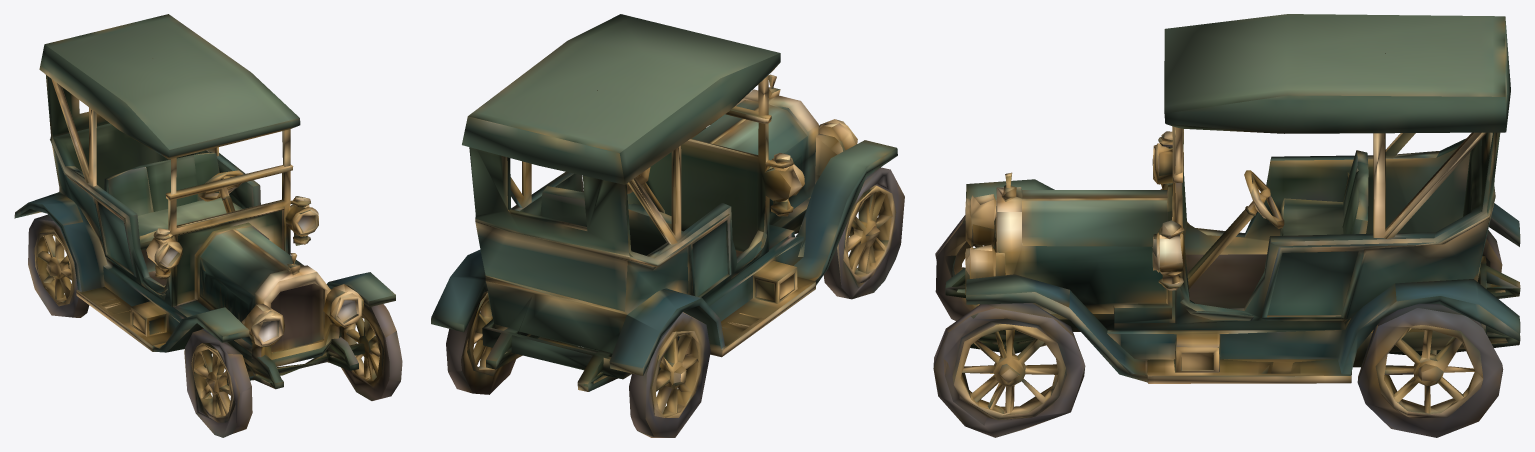
File: otomobil.glb
3 views of the same model, side by side, from view 1: azimuth 30°, elevation 25°; view 2: azimuth 150°, elevation 25°; view 3: azimuth 270°, elevation 25° (orthographic). The views are drawn at different scales.
Parts seen in each view (by area): view 1: node_0; view 2: node_0; view 3: node_0.
Part boxes in pixels (left/top/right/bottom): node_0: left=14, top=14, right=402, bottom=437; node_0: left=431, top=14, right=904, bottom=437; node_0: left=933, top=14, right=1520, bottom=437.
Bounding box in the file's own units: 0.4731 × 0.647 × 1.02.
Materials: 1 (1 with a texture image).
